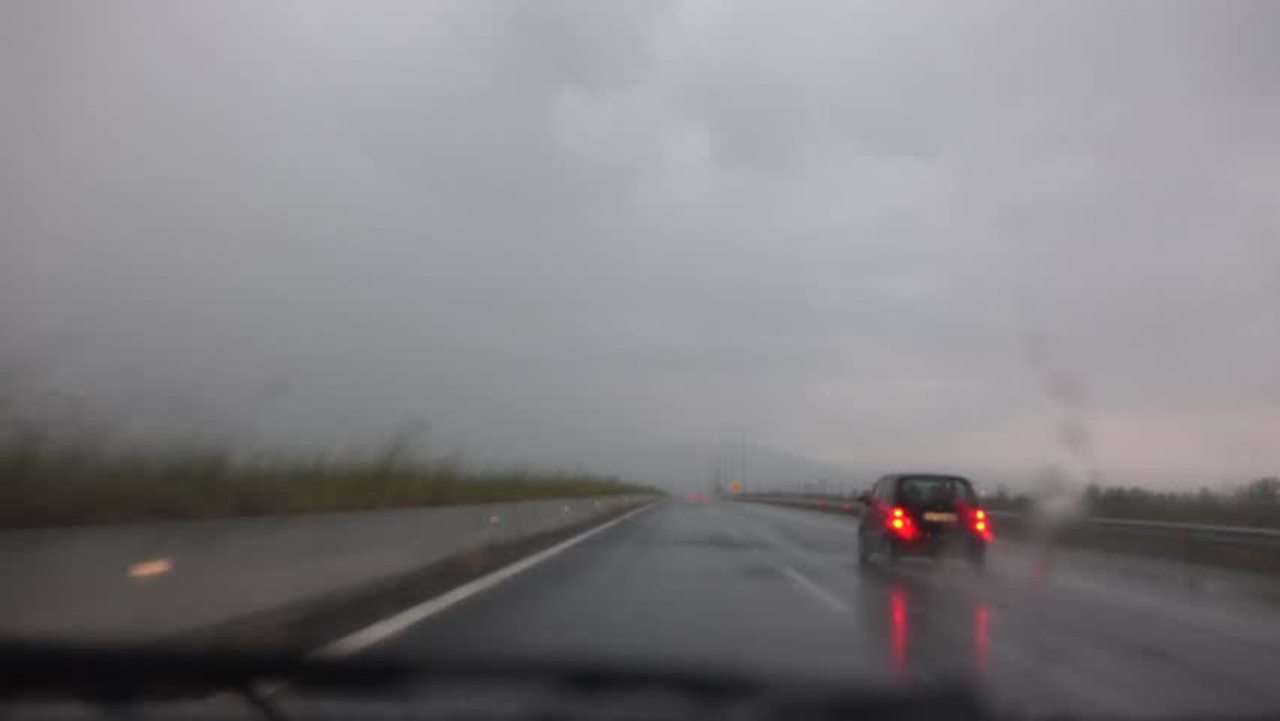car: (855, 473, 998, 574)
